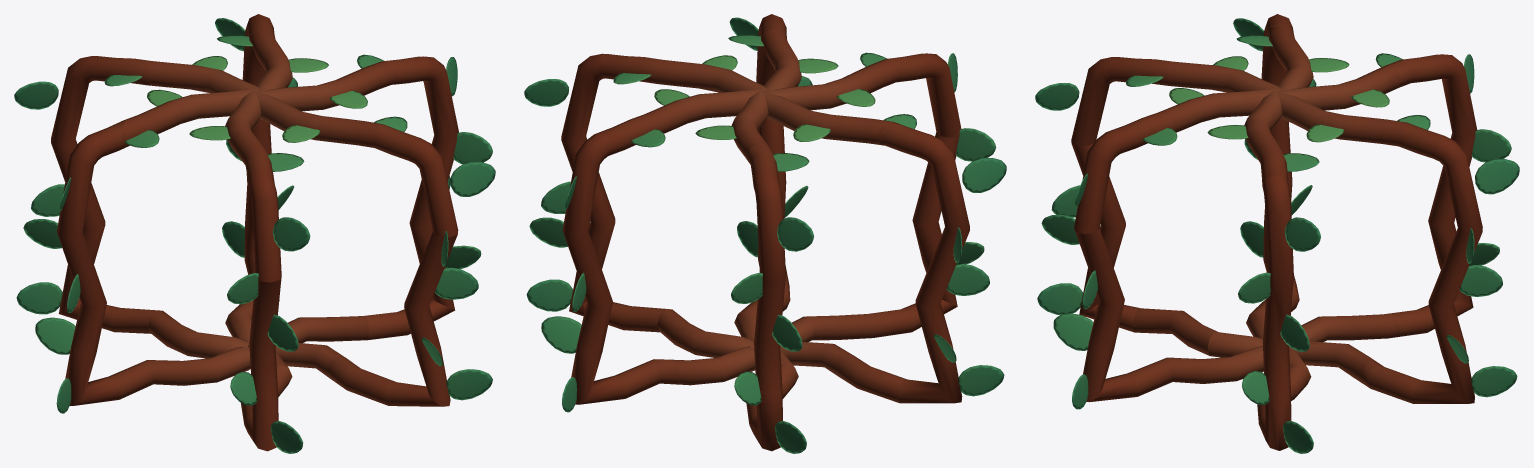
The model's file is vines broken new 10.fbx.
The picture shows the model from 3 angles, left to right: view 1: azimuth 30°, elevation 25°; view 2: azimuth 150°, elevation 25°; view 3: azimuth 270°, elevation 25°; orthographic projection.
Visible parts, largest first — view 1: Circle.240, Circle.239, Circle.238, Circle.251, Circle.242, Circle.249, Circle.261, Circle.241, Circle.248, Circle.255, Circle.256, Circle.250 (+10 smaller); view 2: Circle.241, Circle.240, Circle.239, Circle.242, Circle.248, Circle.238, Circle.261, Circle.255, Circle.256, Circle.260, Circle.258, Circle.243 (+9 smaller); view 3: Circle.241, Circle.242, Circle.239, Circle.251, Circle.261, Circle.249, Circle.238, Circle.240, Circle.248, Circle.250, Circle.254, Circle.252 (+10 smaller).
Boxes of the visible parts, x1,y1,x2,y2 form: Circle.240: (23, 119, 126, 413); Circle.239: (14, 56, 152, 333); Circle.238: (227, 273, 303, 453); Circle.251: (404, 231, 492, 406); Circle.242: (409, 56, 492, 310); Circle.249: (373, 116, 495, 237); Circle.261: (241, 144, 310, 282); Circle.241: (215, 14, 297, 300); Circle.248: (257, 54, 428, 111); Circle.255: (121, 88, 257, 148); Circle.256: (109, 346, 250, 399); Circle.250: (254, 90, 382, 147); Circle.241: (529, 107, 680, 412); Circle.240: (876, 124, 1006, 403); Circle.239: (731, 143, 813, 453); Circle.242: (524, 54, 615, 315); Circle.248: (599, 53, 767, 92); Circle.238: (912, 128, 996, 306); Circle.261: (860, 52, 961, 137); Circle.255: (761, 90, 916, 145); Circle.256: (780, 341, 907, 403); Circle.260: (764, 64, 885, 110); Circle.258: (808, 309, 914, 340); Circle.243: (654, 88, 765, 130); Circle.241: (1357, 115, 1519, 403); Circle.242: (1238, 175, 1320, 453); Circle.239: (1375, 53, 1511, 336); Circle.251: (1041, 214, 1124, 409); Circle.261: (1035, 57, 1171, 146); Circle.249: (1074, 117, 1177, 234); Circle.238: (1037, 143, 1125, 314); Circle.240: (1233, 14, 1316, 284); Circle.248: (1207, 89, 1319, 185); Circle.250: (1144, 88, 1279, 133); Circle.254: (1278, 65, 1400, 110); Circle.252: (1090, 357, 1203, 401).
Size of the model in its own units: 31 by 18.62 by 29.53.
